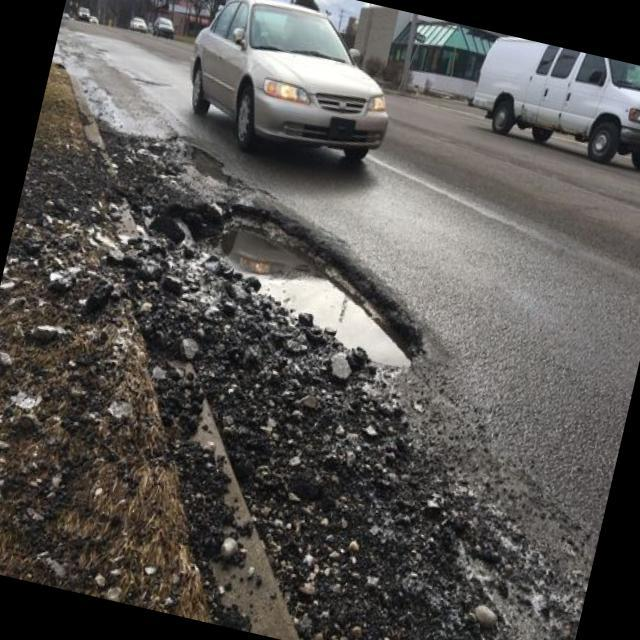Pothole: (188, 192, 426, 350), (109, 125, 226, 187)
